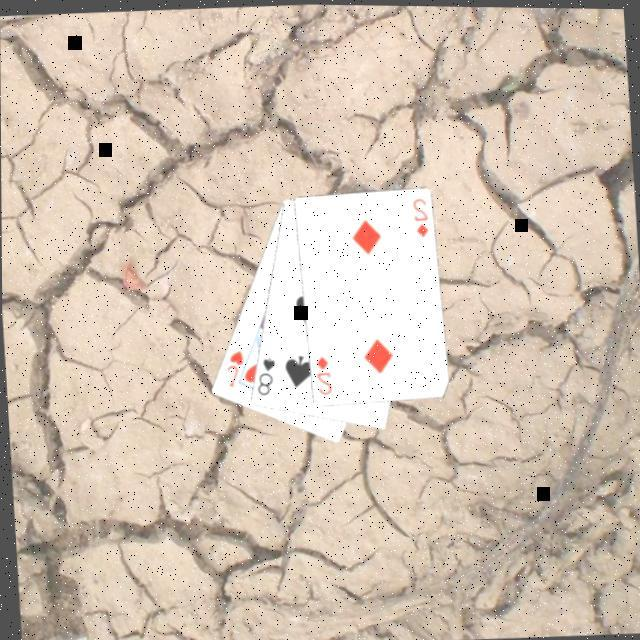2D: (309, 351, 332, 396), (407, 194, 429, 238)
8S: (250, 352, 276, 397)
JH: (219, 346, 244, 389)
